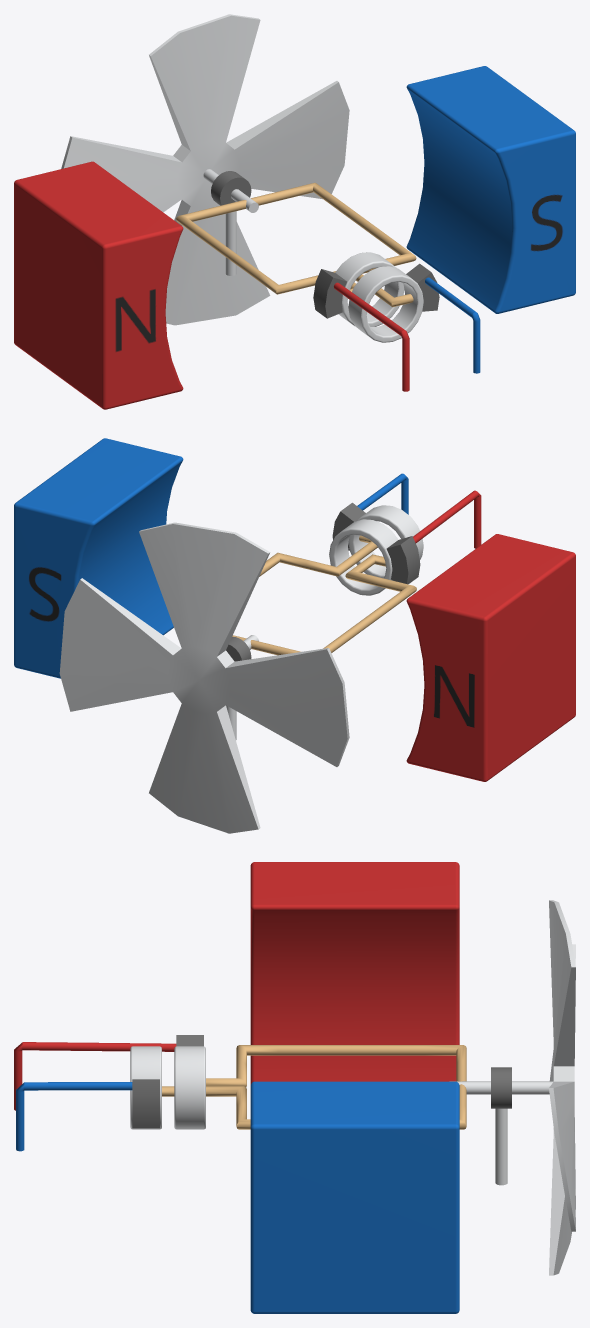
Rendered from ACGenerator.glb.
The picture shows the model from 3 angles, top to bottom: view 1: azimuth 30°, elevation 25°; view 2: azimuth 150°, elevation 25°; view 3: azimuth 270°, elevation 25°; orthographic projection. The views are drawn at different scales.
Parts seen in each view (by area): view 1: Curved_magnet, windmill, sweep2, polySurface1, polySurface3, polySurface4, pCylinder6, pCylinder7, pCylinder8, polySurface2, pCylinder9; view 2: Curved_magnet, windmill, sweep2, polySurface3, polySurface1, polySurface4, pCylinder6, pCylinder7, polySurface2; view 3: Curved_magnet, windmill, sweep2, polySurface3, pCylinder6, pCylinder7, polySurface2, polySurface1, pCylinder9, pCylinder8.
Boxes of the visible parts, <box> form: Curved_magnet: <box>14,66,575,409</box>; windmill: <box>61,14,349,325</box>; sweep2: <box>176,182,416,307</box>; polySurface1: <box>348,266,423,342</box>; polySurface3: <box>335,252,404,326</box>; polySurface4: <box>313,269,346,318</box>; pCylinder6: <box>334,282,409,391</box>; pCylinder7: <box>425,277,480,373</box>; pCylinder8: <box>211,171,251,205</box>; polySurface2: <box>406,263,439,311</box>; pCylinder9: <box>225,211,236,275</box>; Curved_magnet: <box>14,438,575,781</box>; windmill: <box>59,522,349,833</box>; sweep2: <box>232,535,416,655</box>; polySurface3: <box>329,519,398,595</box>; polySurface1: <box>348,505,423,578</box>; polySurface4: <box>386,536,420,584</box>; pCylinder6: <box>413,490,481,548</box>; pCylinder7: <box>357,473,408,514</box>; polySurface2: <box>332,502,365,550</box>; Curved_magnet: <box>250,862,459,1313</box>; windmill: <box>449,900,575,1275</box>; sweep2: <box>162,1045,466,1129</box>; polySurface3: <box>174,1046,205,1129</box>; pCylinder6: <box>14,1042,176,1110</box>; pCylinder7: <box>16,1082,132,1151</box>; polySurface2: <box>132,1079,159,1128</box>; polySurface1: <box>130,1046,161,1129</box>; pCylinder9: <box>495,1108,507,1185</box>; pCylinder8: <box>491,1067,511,1108</box>.
Bounding box in the file's own units: 0.3 × 0.1792 × 0.2687.
Materials: 4 (1 with a texture image).
